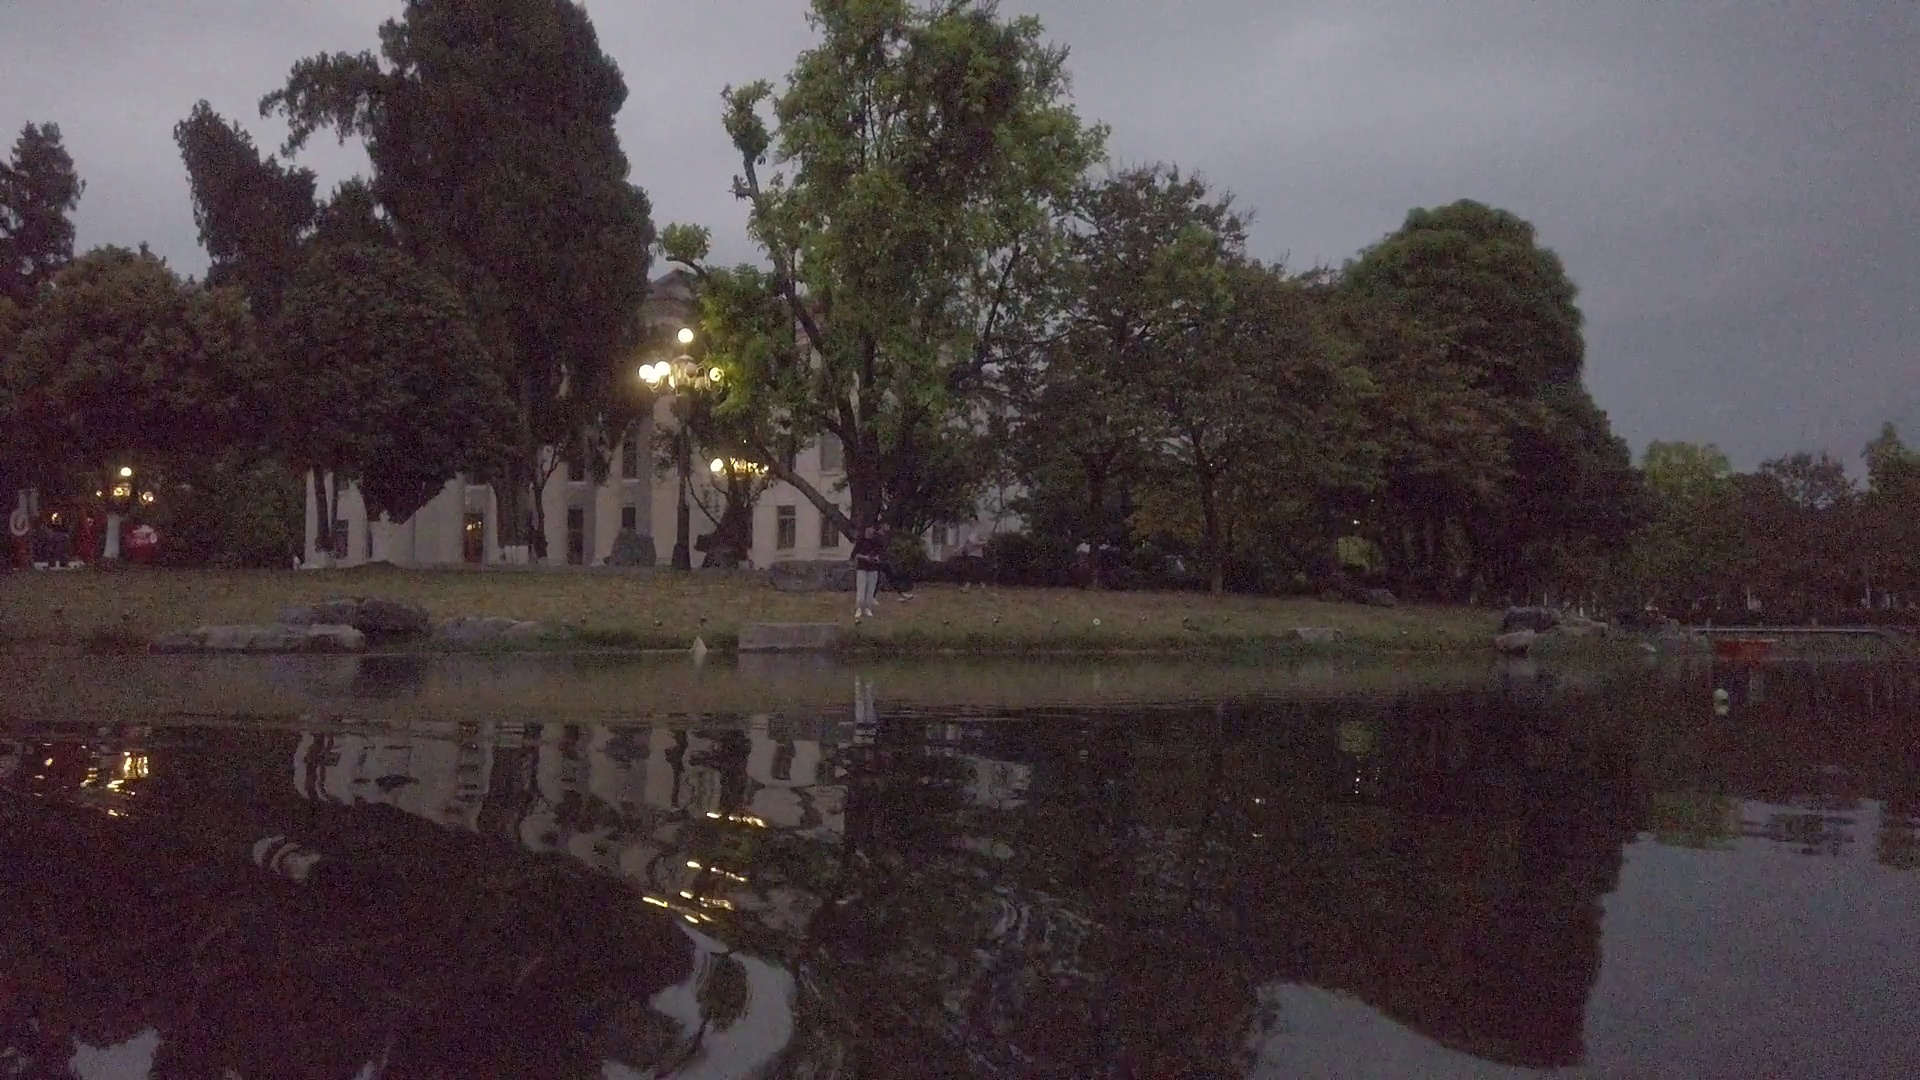bottle: (1713, 686, 1731, 707)
